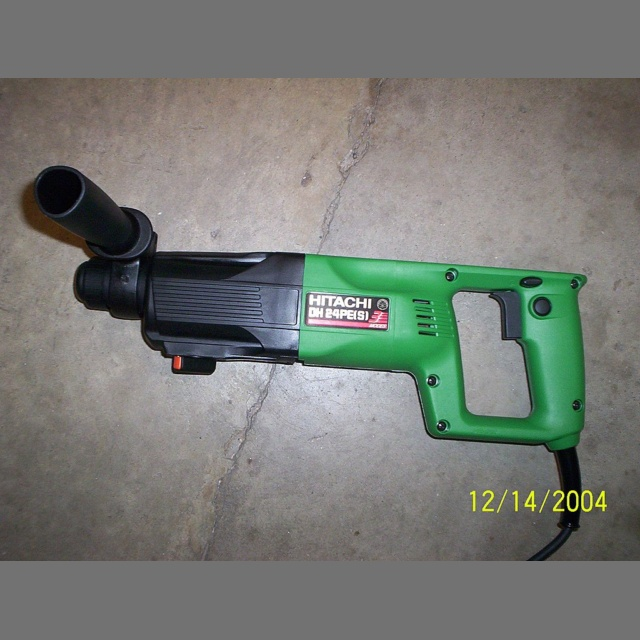drill: (33, 163, 587, 453)
